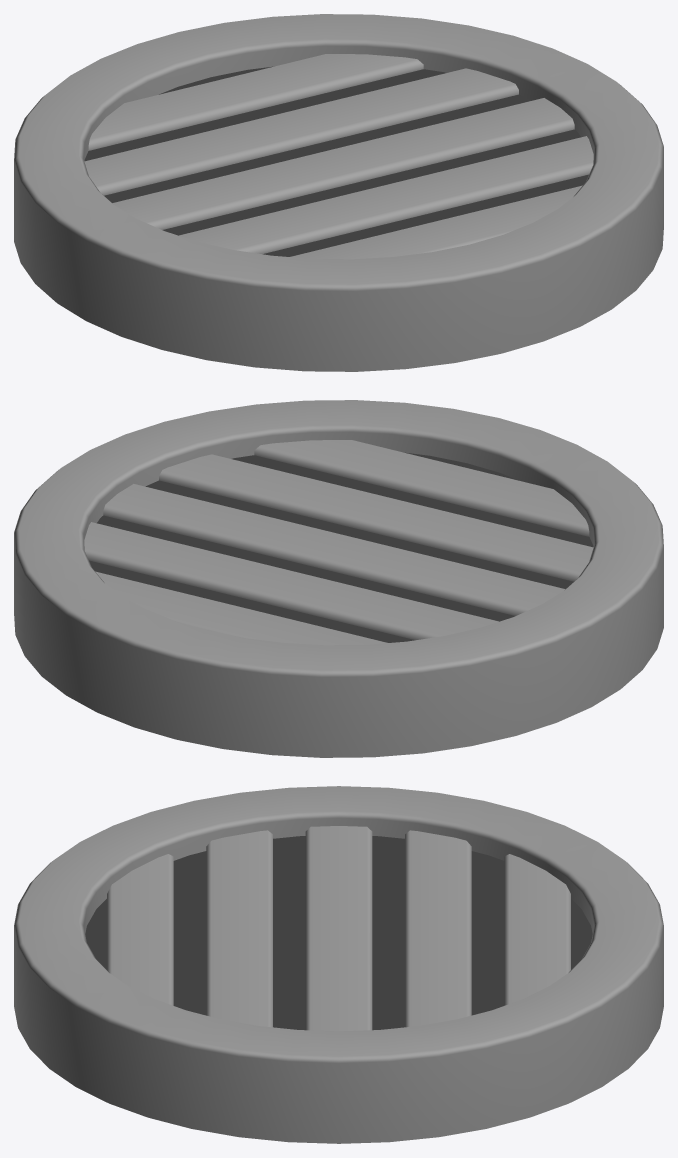
File: City_12_Drain_Hatch_1.glb
The picture shows the model from 3 angles, top to bottom: view 1: azimuth 30°, elevation 25°; view 2: azimuth 150°, elevation 25°; view 3: azimuth 270°, elevation 25°; orthographic projection.
Visible parts, largest first — view 1: City_12_Drain_Hatch_1; view 2: City_12_Drain_Hatch_1; view 3: City_12_Drain_Hatch_1.
Part boxes in pixels (x1,y1,x2,y2): City_12_Drain_Hatch_1: (14,14,663,371); City_12_Drain_Hatch_1: (14,400,663,757); City_12_Drain_Hatch_1: (14,786,663,1143).
Bounding box in the file's own units: 1.39 × 0.2019 × 1.39.
Materials: 1 (1 with a texture image).
